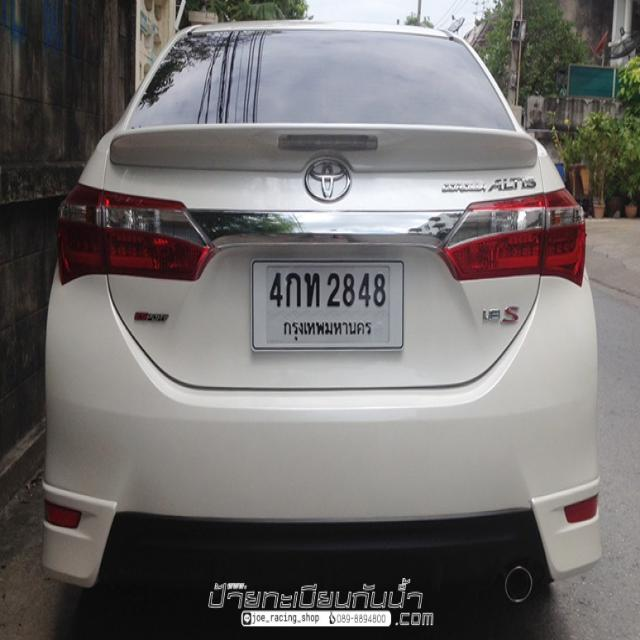license_plate: (251, 256, 406, 355)
